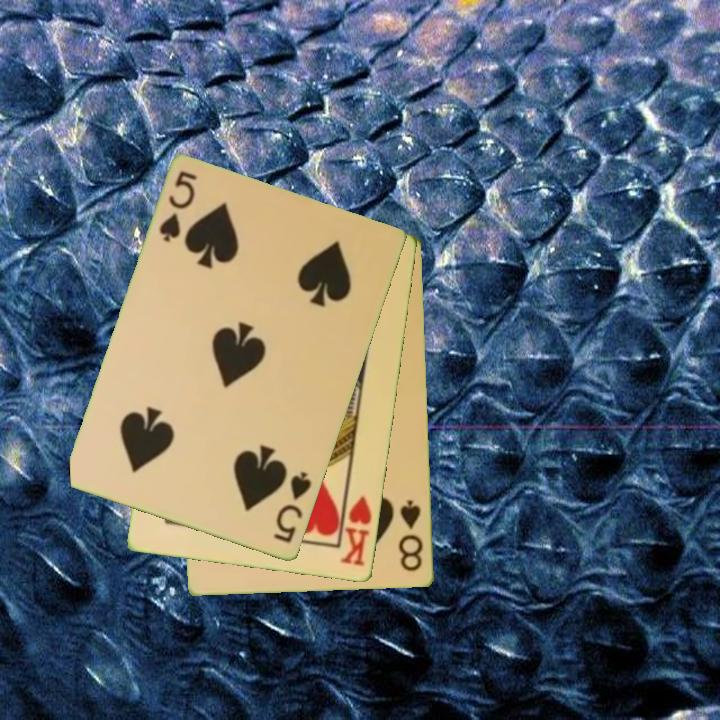5s: (270, 468, 315, 546), (156, 168, 200, 246)
8s: (396, 497, 427, 575)
Kh: (337, 486, 375, 569)
